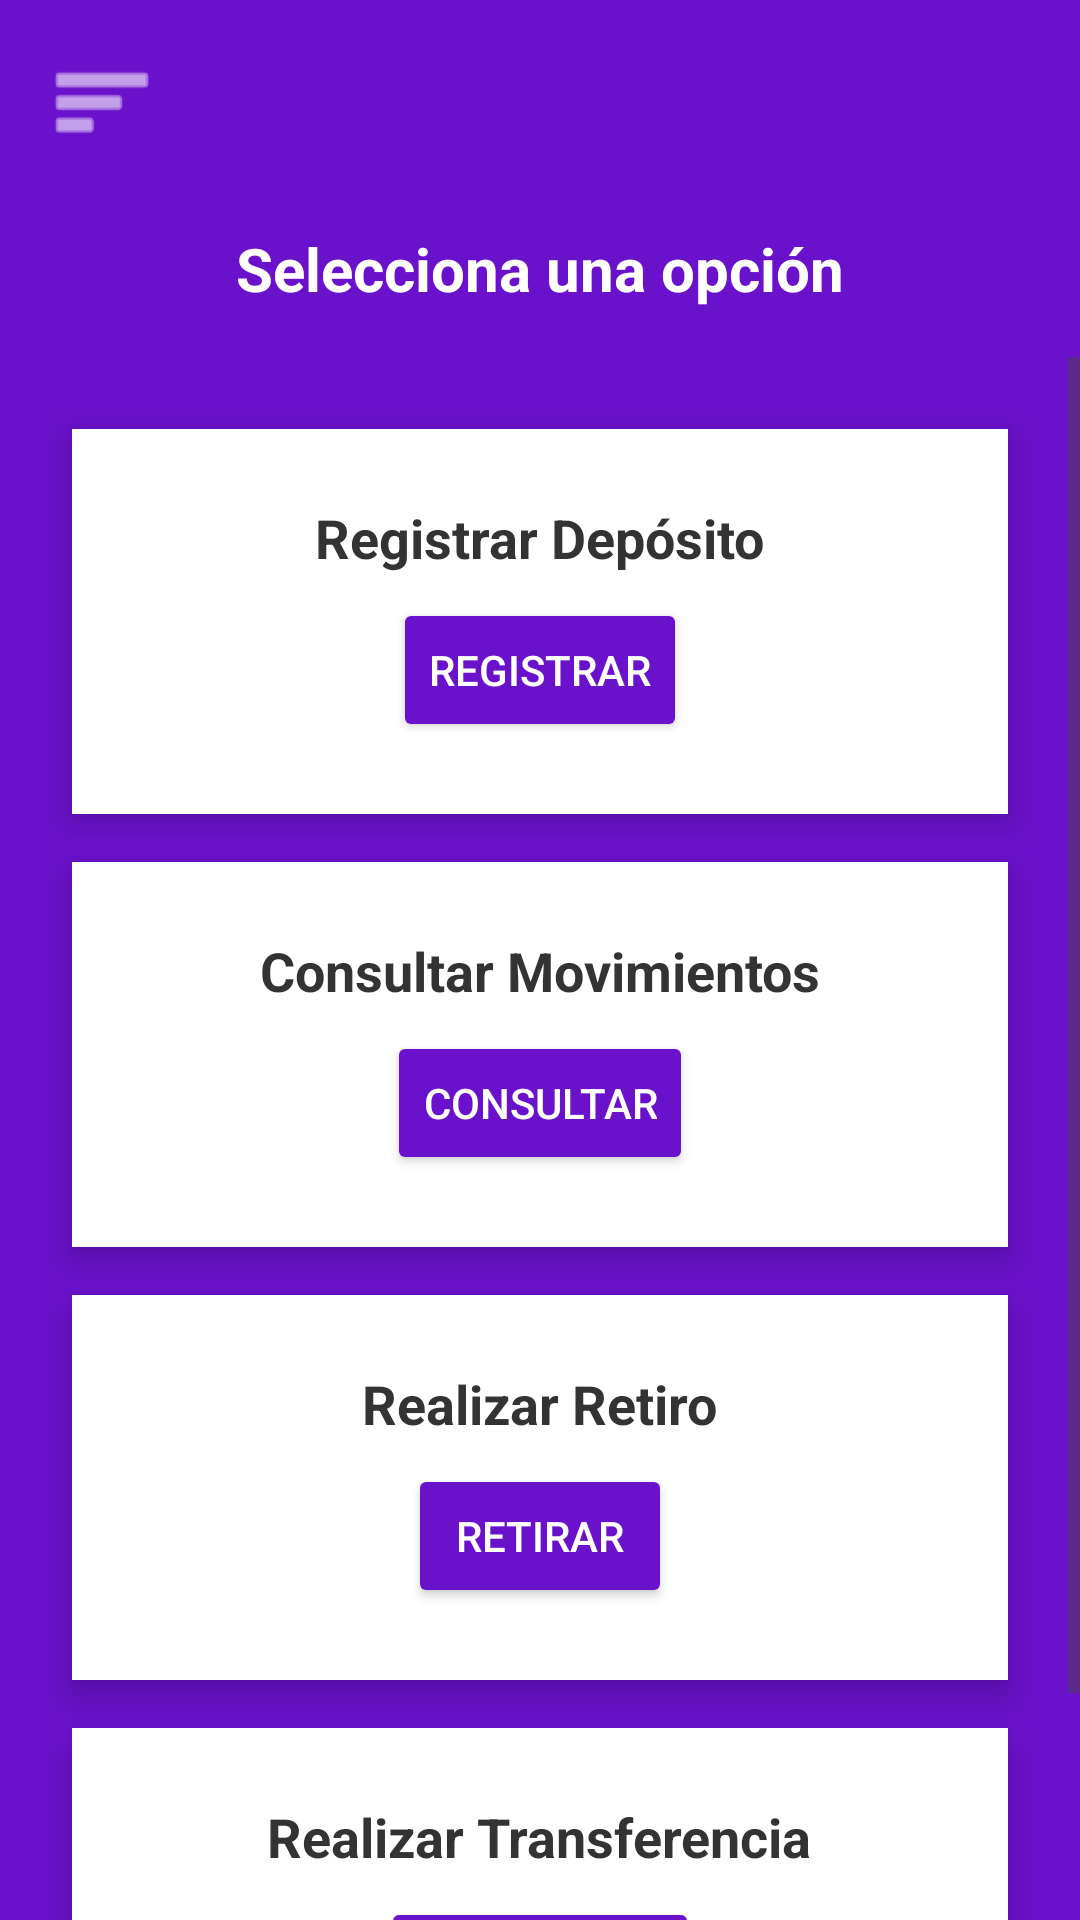

Where icons sit on this 1080*1920 app screen, as (x1, y1, x2, y2):
Abrir menú: (55, 72, 149, 133)
